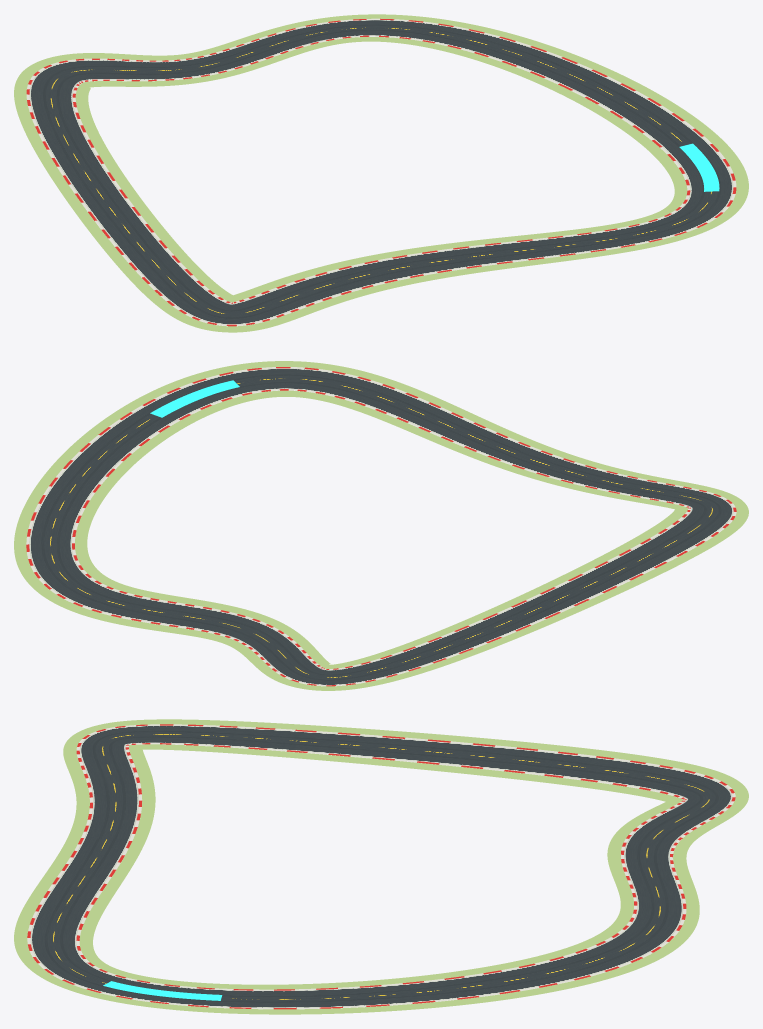
The model's file is road.glb.
The picture shows the model from 3 angles, top to bottom: view 1: azimuth 30°, elevation 25°; view 2: azimuth 150°, elevation 25°; view 3: azimuth 270°, elevation 25°; orthographic projection. The views are drawn at different scales.
Bounding box in the file's own units: 283 × 5.49 × 288.
Materials: 5 (1 with a texture image).
